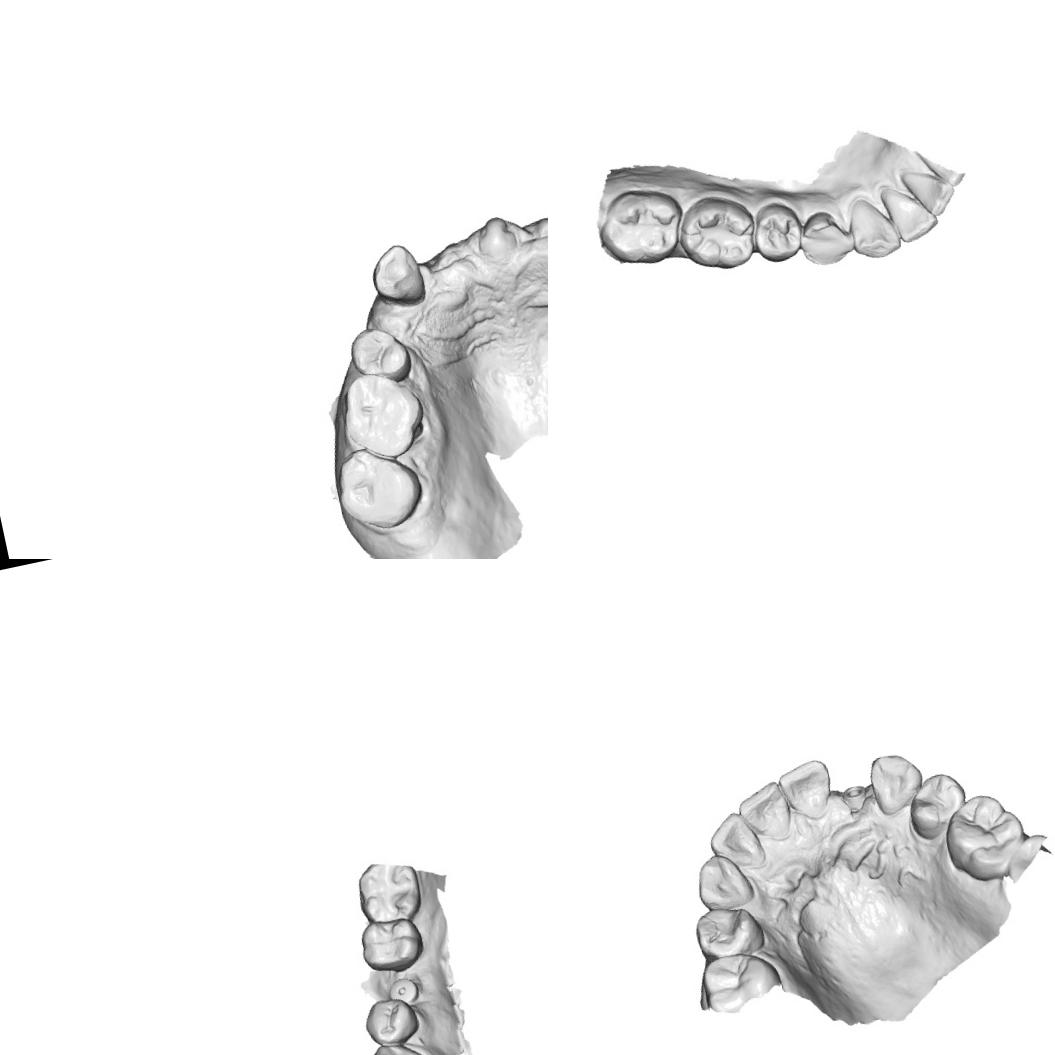canine: (690, 848, 758, 916), (366, 240, 430, 312), (842, 191, 904, 264), (865, 748, 929, 818), (362, 1035, 432, 1055)
implant: (386, 974, 422, 1008), (839, 782, 872, 814)
incisor: (774, 756, 838, 825), (878, 176, 941, 246), (734, 779, 796, 847), (704, 807, 766, 874), (914, 174, 960, 220)
molar: (334, 362, 433, 469), (328, 438, 430, 538), (937, 787, 1032, 889), (589, 180, 692, 274), (671, 188, 763, 280), (697, 944, 785, 1017), (351, 854, 426, 930), (356, 911, 430, 980)
premolar: (902, 768, 974, 842), (344, 320, 416, 392), (691, 900, 768, 963), (746, 197, 808, 267), (794, 206, 856, 270), (360, 992, 423, 1050)
